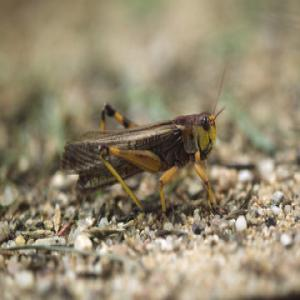locust: (61, 85, 230, 209)
